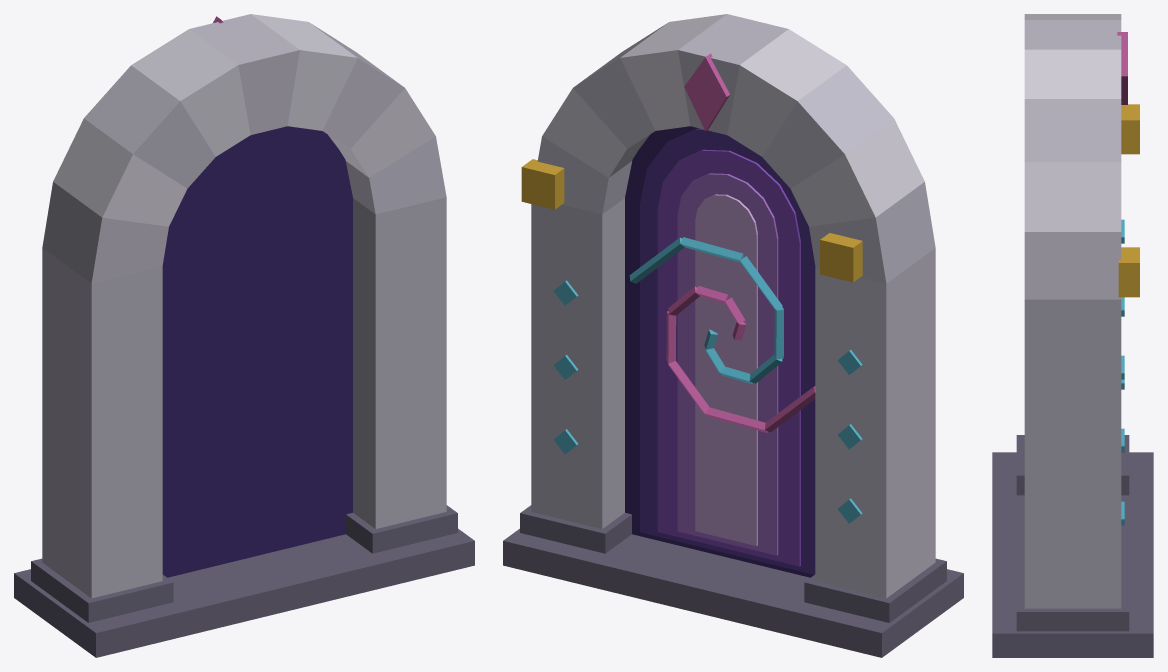
The model's file is Decor_WizardTower_Portal.fbx.
The picture shows the model from 3 angles, left to right: view 1: azimuth 30°, elevation 25°; view 2: azimuth 150°, elevation 25°; view 3: azimuth 270°, elevation 25°; orthographic projection.
Visible parts, largest first — view 1: Portal_Body; view 2: Portal_Body; view 3: Portal_Body.
Part boxes in pixels (x1,y1,x2,y2): Portal_Body: (14,14,474,657); Portal_Body: (503,14,963,657); Portal_Body: (992,14,1153,657).
Size of the model in its own units: 16 by 22 by 6.
